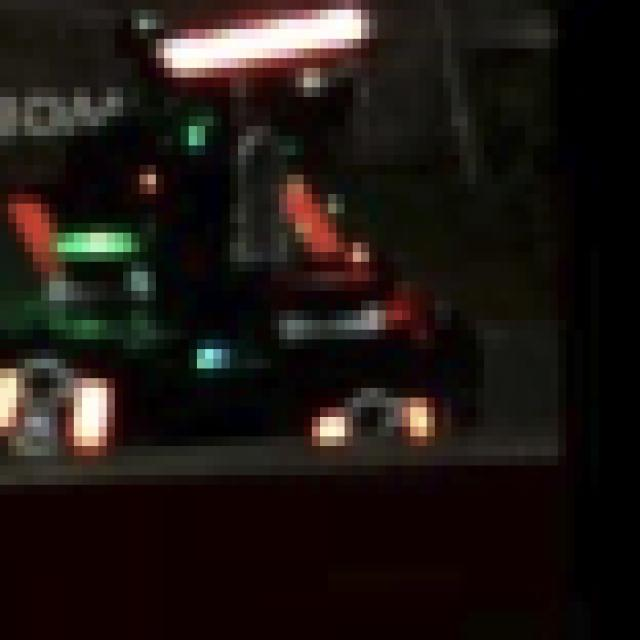Rs: (8, 349, 107, 456)
